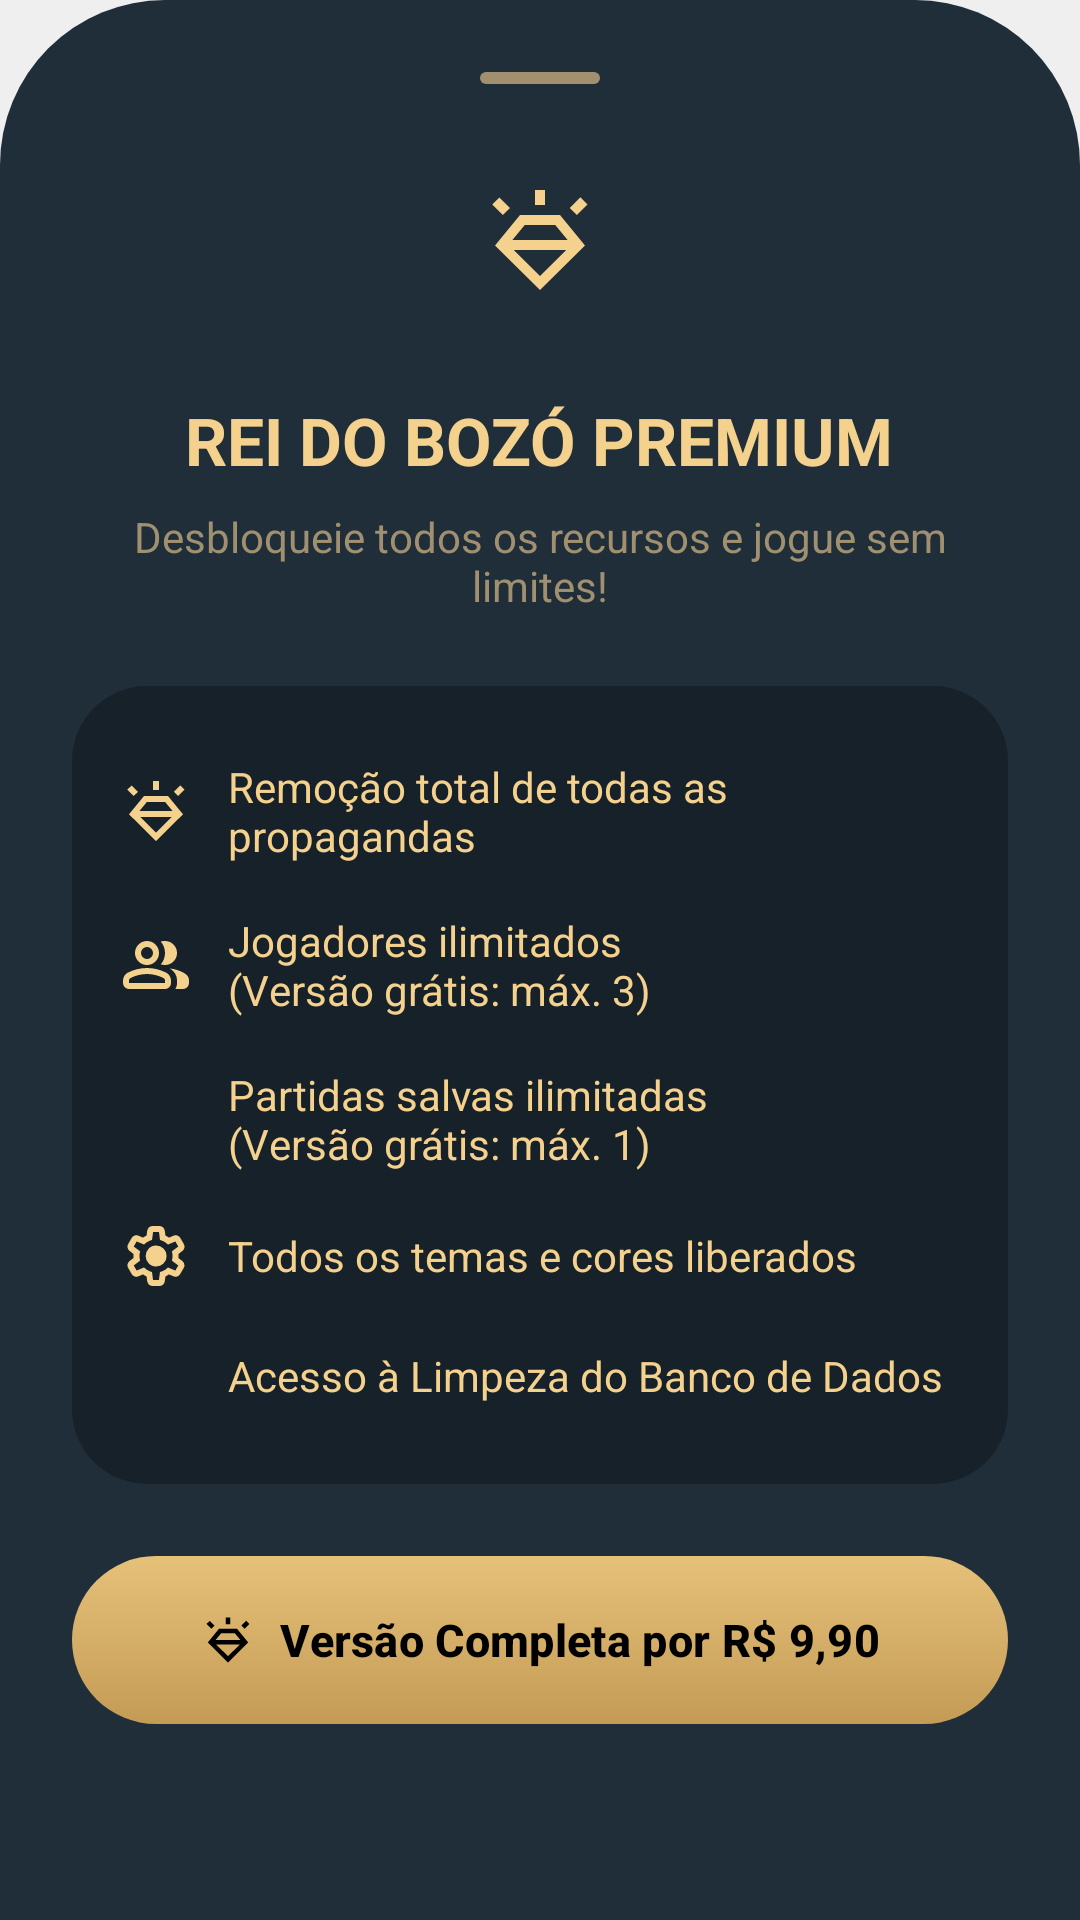

Named icons in this screenshot (1080px x 1920px) and their centers, (x,y):
diamond shine: (540,240), (156,811)
players: (156,965)
settings: (156,1256)
